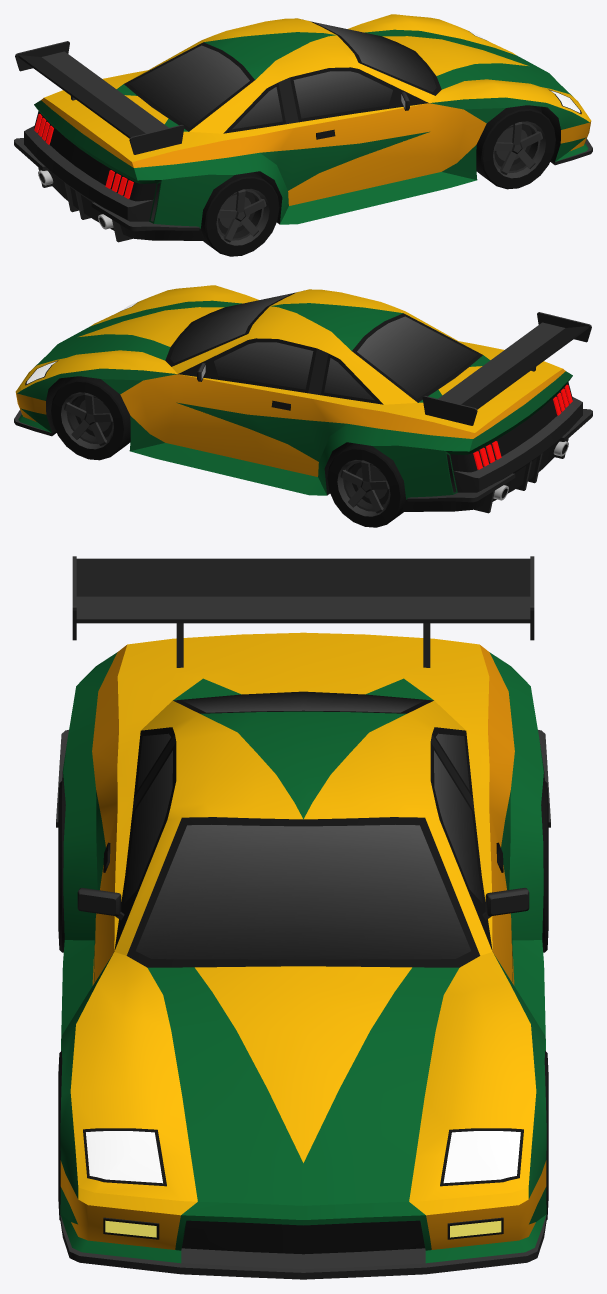
Rendered from RaceCar_073.glb.
3 renders of one model, top to bottom at view 1: azimuth 30°, elevation 25°; view 2: azimuth 150°, elevation 25°; view 3: azimuth 270°, elevation 25°, orthographic. The views are drawn at different scales.
Parts seen in each view (by area): view 1: RaceCar_073, wheel_1_RaceCar_073_Wheel_1R, wheel_3_RaceCar_073_Wheel_2R; view 2: RaceCar_073, wheel_0_RaceCar_073_Wheel_1L, wheel_2_RaceCar_073_Wheel_2L; view 3: RaceCar_073, wheel_3_RaceCar_073_Wheel_2R, wheel_2_RaceCar_073_Wheel_2L.
Part boxes in pixels (x1,y1,x2,y2): RaceCar_073: (14,14,592,242); wheel_1_RaceCar_073_Wheel_1R: (476,105,555,189); wheel_3_RaceCar_073_Wheel_2R: (201,172,279,256); RaceCar_073: (14,285,592,513); wheel_0_RaceCar_073_Wheel_1L: (51,376,130,460); wheel_2_RaceCar_073_Wheel_2L: (327,443,405,527); RaceCar_073: (56,556,550,1279); wheel_3_RaceCar_073_Wheel_2R: (58,780,65,952); wheel_2_RaceCar_073_Wheel_2L: (541,780,548,952).
Size of the model in its own units: 4.58 by 1.31 by 2.02.
3 materials, 3 textured.
